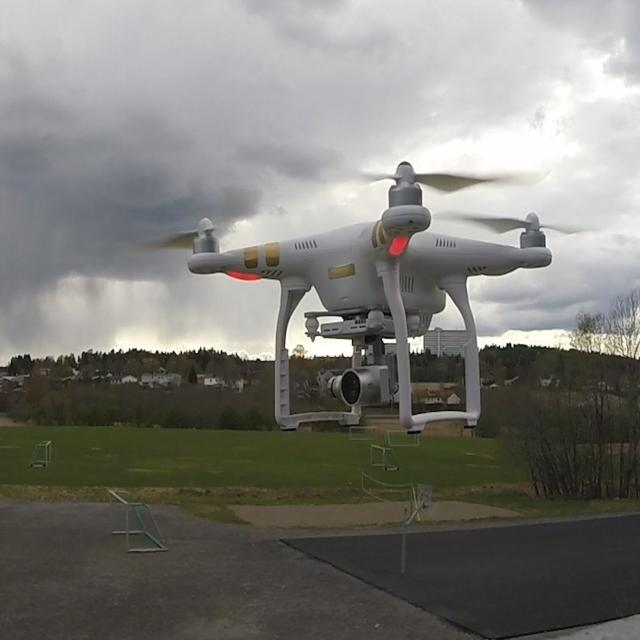drones: (113, 148, 611, 442)
